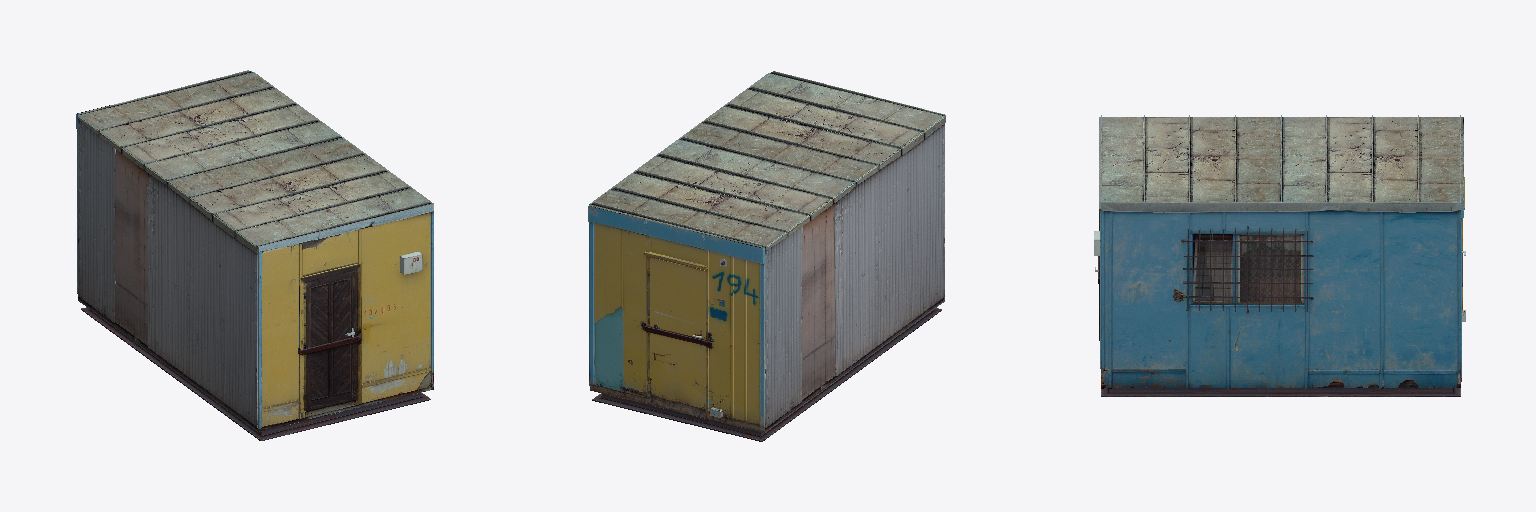
The picture shows the model from 3 angles: view 1: azimuth 30°, elevation 25°; view 2: azimuth 150°, elevation 25°; view 3: azimuth 270°, elevation 25°; orthographic projection.
Visible parts, largest first — view 1: Object_BuildingShed-0.jpg; view 2: Object_BuildingShed-0.jpg; view 3: Object_BuildingShed-0.jpg.
Boxes of the visible parts, x1,y1,x2,y2 form: Object_BuildingShed-0.jpg: [76, 70, 433, 440]; Object_BuildingShed-0.jpg: [588, 71, 945, 441]; Object_BuildingShed-0.jpg: [1094, 115, 1465, 396].
Size of the model in its own units: 1.38 by 1.48 by 2.5.
2 materials, 1 textured.